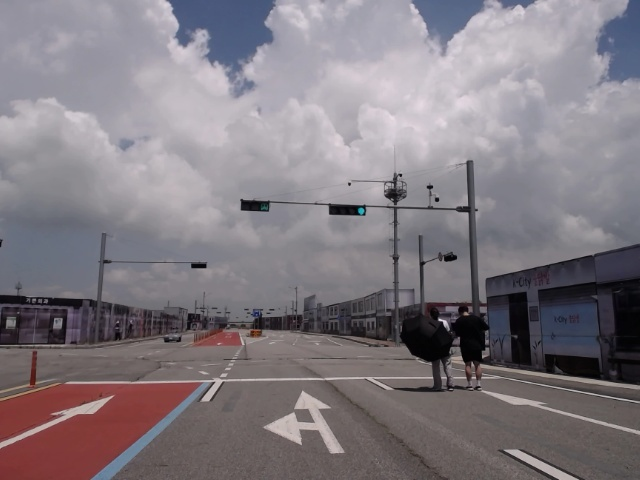straight_green_4: (330, 203, 366, 216)
